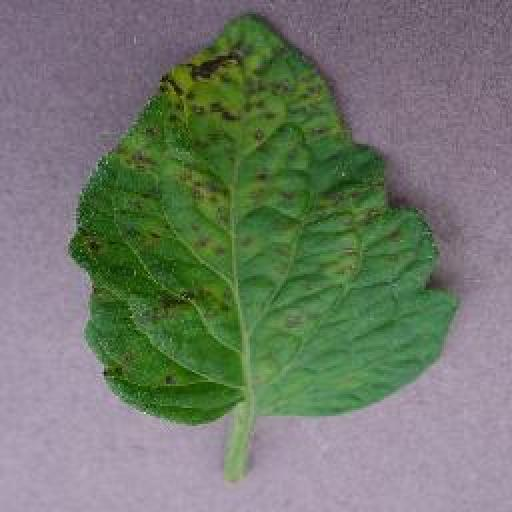Septoria: (67, 10, 464, 426)
